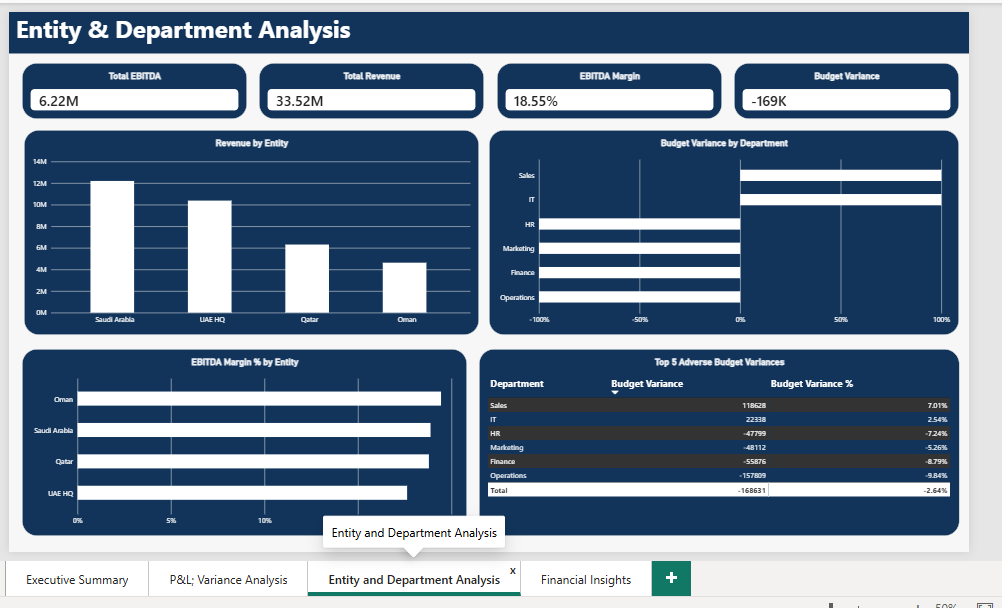

The page's visual inventory and layout, read from the dashboard file:
{"tool":"powerbi","page":{"name":"Entity and Department Analysis","canvas":[1920,1080],"ordinal":2},"visuals":[{"type":"clusteredColumnChart","title":"Revenue by Entity","fields":{"Category":["Dim_Entity.Entity"],"Y":["Fact_Financials.Revenue"]},"box":[29.8,236,909.9,410.3],"z":0},{"type":"clusteredBarChart","fields":{"Category":["Dim_Entity.Entity"],"Y":["Fact_Financials.EBITDA Margin %"]},"box":[25.5,673.9,890,374],"z":1000},{"type":"hundredPercentStackedBarChart","fields":{"Category":["Dim_Department.Department"],"Y":["Fact_Financials.Budget Variance"]},"box":[960.9,236,939.7,410.3],"z":2000},{"type":"tableEx","title":"Top 5 Adverse Budget Variances","fields":{"Values":["Fact_Financials.Department","Fact_Financials.Budget Variance","Fact_Financials.Budget Variance %"]},"box":[939.7,673.9,960.9,374.2],"z":3000},{"type":"cardVisual","title":"Total EBITDA","fields":{"Data":["Fact_Financials.EBITDA"]},"box":[25.5,102,450,112],"z":4000},{"type":"cardVisual","title":"EBITDA Margin","fields":{"Data":["Fact_Financials.EBITDA Margin %"]},"box":[975.1,102,450,112],"z":5000},{"type":"cardVisual","title":"Budget Variance","fields":{"Data":["Fact_Financials.Budget Variance"]},"box":[1449.9,102,450,112],"z":6000},{"type":"cardVisual","title":"Total Revenue","fields":{"Data":["Fact_Financials.Revenue"]},"box":[500.3,102,450,112],"z":7000},{"type":"textbox","box":[0,0,1919.8,82.9],"z":8000}]}

Visuals, with their boxes in screenshot pixels (x1, y1, x2, y2):
"Revenue by Entity" clusteredColumnChart: <box>25,128,477,331</box>
clusteredBarChart - Dim_Entity.Entity x Fact_Financials.EBITDA Margin %: <box>23,345,465,531</box>
hundredPercentStackedBarChart - Dim_Department.Department x Fact_Financials.Budget Variance: <box>487,128,954,331</box>
"Top 5 Adverse Budget Variances" tableEx: <box>477,345,954,531</box>
"Total EBITDA" cardVisual: <box>23,61,246,117</box>
"EBITDA Margin" cardVisual: <box>494,61,718,117</box>
"Budget Variance" cardVisual: <box>730,61,954,117</box>
"Total Revenue" cardVisual: <box>259,61,482,117</box>
textbox: <box>10,10,963,52</box>
